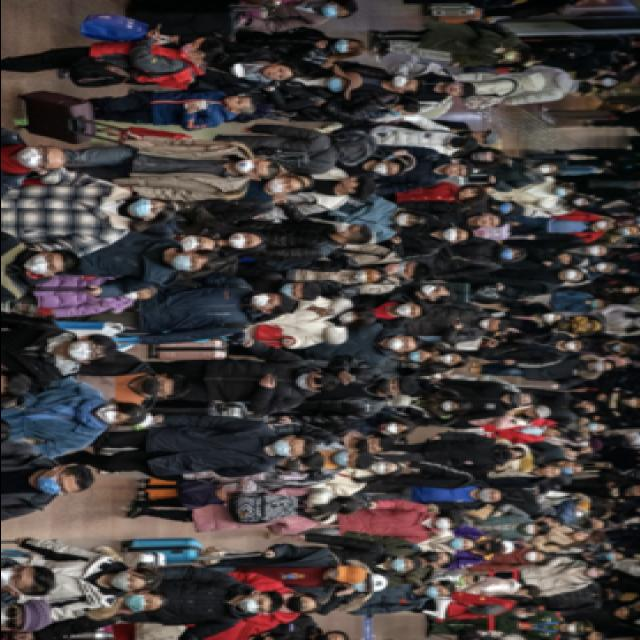mask: (23, 251, 58, 275), (16, 144, 50, 168), (37, 474, 71, 496), (67, 339, 99, 362), (126, 196, 158, 218), (2, 565, 28, 590), (138, 376, 168, 397), (94, 403, 124, 424), (110, 571, 138, 592), (122, 594, 154, 612), (170, 252, 200, 270), (235, 157, 262, 176), (272, 438, 300, 456), (239, 595, 267, 613), (391, 74, 417, 92), (324, 74, 350, 92), (250, 291, 276, 309), (285, 595, 311, 613), (180, 235, 208, 251), (320, 1, 346, 18), (228, 232, 255, 248), (2, 606, 20, 630), (283, 458, 309, 472), (180, 38, 200, 56), (295, 372, 315, 390), (387, 336, 412, 350), (281, 282, 299, 300), (352, 269, 375, 283), (357, 438, 380, 452), (350, 578, 373, 592), (389, 557, 412, 571), (334, 37, 354, 53), (334, 451, 354, 467), (378, 379, 398, 394), (424, 550, 444, 565), (334, 220, 357, 233), (396, 304, 419, 317), (394, 261, 412, 277), (594, 218, 614, 232), (562, 268, 582, 282), (442, 228, 462, 242), (339, 310, 359, 324), (374, 461, 394, 475), (387, 108, 412, 119), (424, 586, 446, 598), (422, 283, 442, 296), (408, 348, 426, 362), (384, 422, 402, 436), (488, 540, 506, 554), (374, 162, 394, 174), (477, 490, 497, 502), (504, 49, 522, 62), (536, 163, 554, 176), (440, 352, 458, 365), (122, 290, 145, 300), (396, 212, 412, 226), (479, 317, 495, 331), (436, 518, 454, 530), (442, 400, 458, 413), (450, 540, 470, 550), (500, 248, 518, 259), (541, 312, 559, 323), (555, 187, 573, 197), (562, 466, 580, 476), (582, 520, 600, 530), (622, 226, 638, 237), (452, 136, 468, 147), (502, 448, 518, 459), (481, 150, 495, 162), (316, 633, 339, 640), (574, 196, 590, 206), (596, 262, 612, 272), (500, 202, 516, 212), (564, 340, 580, 350), (592, 362, 608, 372), (576, 404, 592, 414), (574, 444, 590, 454), (522, 524, 538, 534), (525, 552, 541, 562), (564, 624, 580, 634), (329, 568, 341, 581), (590, 245, 604, 256), (626, 485, 640, 496), (603, 76, 617, 86), (587, 568, 601, 578), (541, 522, 557, 530), (516, 611, 532, 619), (606, 552, 622, 560), (628, 396, 640, 406), (600, 590, 612, 600), (590, 301, 604, 309), (612, 344, 626, 352), (590, 422, 604, 430), (458, 578, 472, 586), (578, 440, 592, 446), (624, 286, 636, 292), (506, 338, 518, 344), (587, 322, 594, 329)
no_mask: (267, 176, 295, 194), (262, 62, 288, 80), (223, 95, 249, 108), (444, 82, 468, 96), (477, 215, 497, 228), (447, 163, 465, 176), (512, 392, 530, 405), (343, 176, 361, 187), (458, 186, 476, 197), (541, 467, 557, 477), (525, 407, 539, 418), (474, 130, 488, 140), (557, 253, 573, 261), (546, 429, 560, 437), (576, 533, 590, 541), (589, 632, 601, 640), (614, 610, 628, 616)
